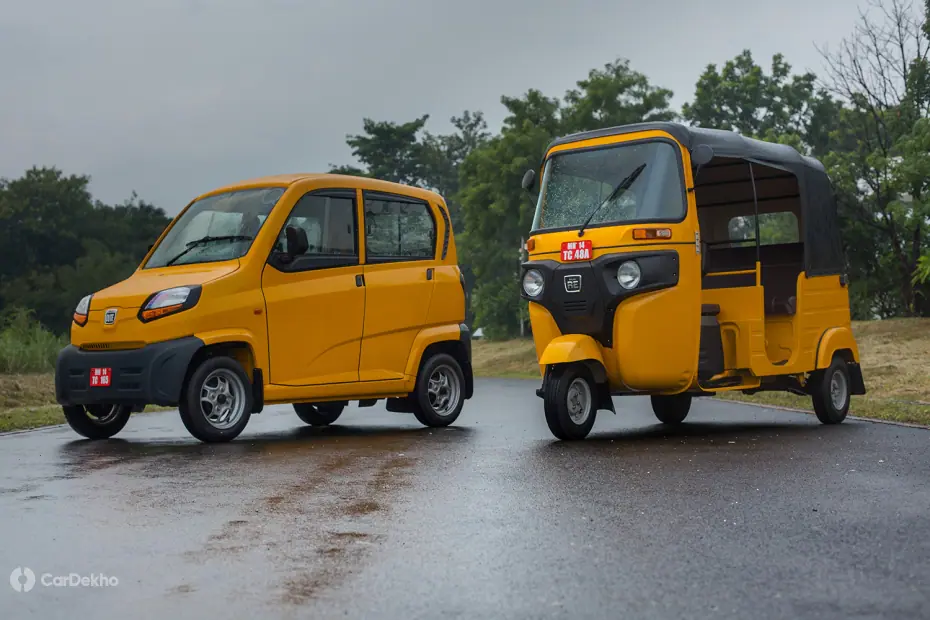auto: (507, 118, 877, 456)
numberplate: (557, 240, 599, 267)
